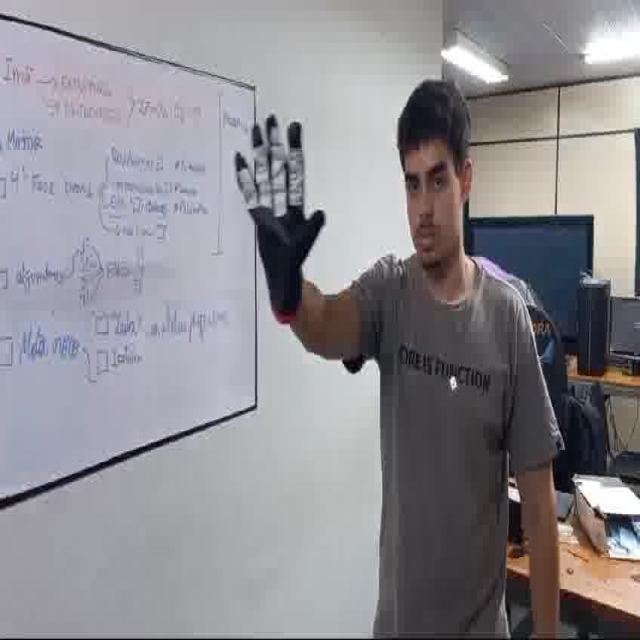Gloves: (226, 107, 334, 321)
